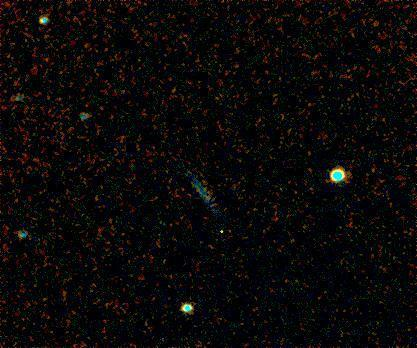star: (207, 210, 237, 240)
